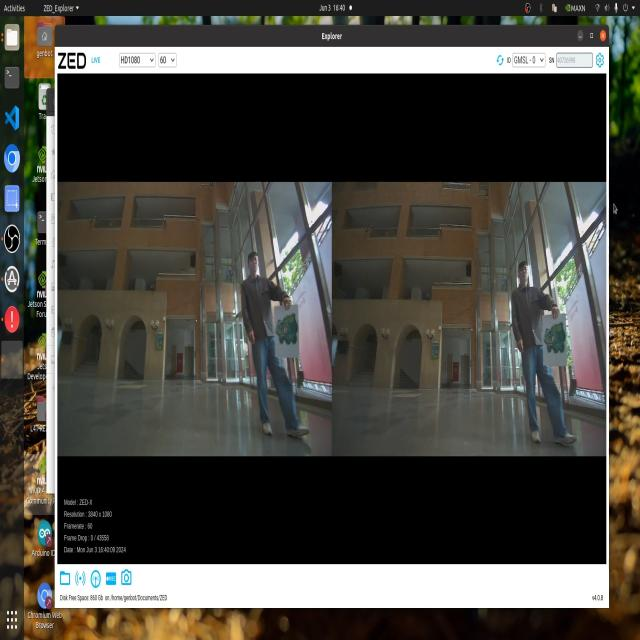green: (272, 307, 304, 363), (542, 316, 571, 362)
